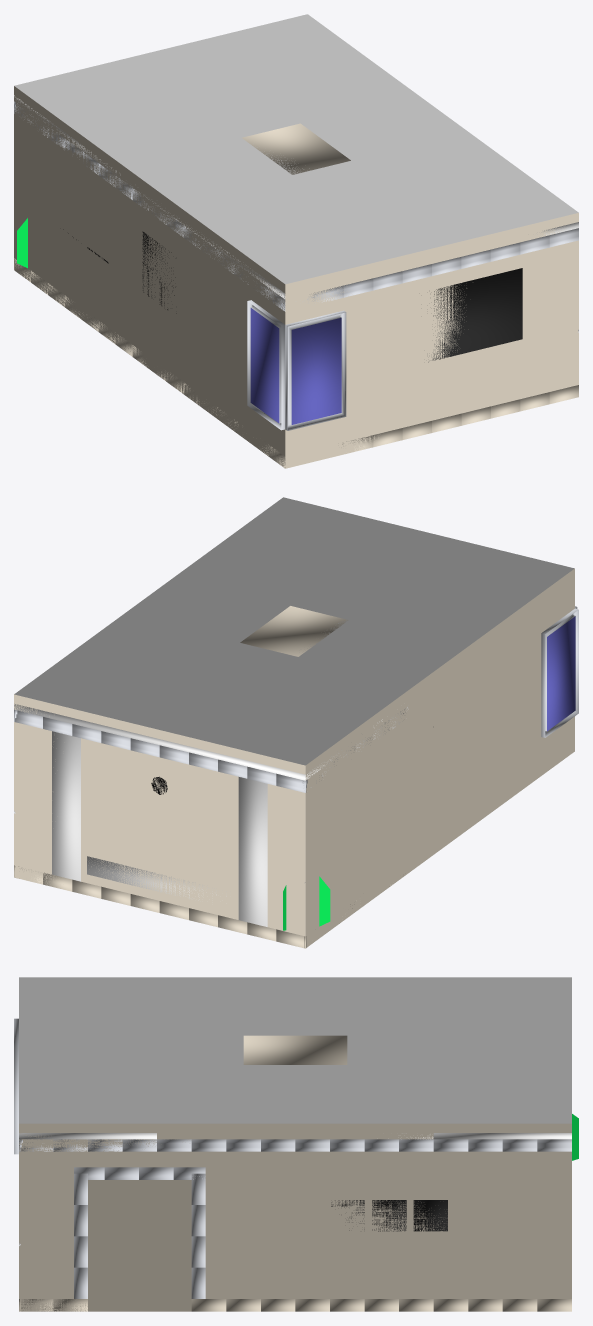
Rendered from scene1-nQGlYMh1.gltf.
3 renders of one model, top to bottom at view 1: azimuth 30°, elevation 25°; view 2: azimuth 150°, elevation 25°; view 3: azimuth 270°, elevation 25°, orthographic. The views are drawn at different scales.
Visible parts, largest first — view 1: Node6, Node2, Node5, Node8, Node186, Node9, Node134; view 2: Node6, Node2, Node4, Node10, Node11, Node9, Node134, Node131, Node12; view 3: Node6, Node3, Node1, Node134, Node189, Node131, Node130, Node188, Node8, Node119, Node118, Node120 (+32 smaller).
Boxes of the visible parts, bbox=[...] form: Node6: bbox=[14, 14, 578, 284]; Node2: bbox=[14, 86, 285, 467]; Node5: bbox=[285, 213, 578, 468]; Node8: bbox=[285, 310, 346, 430]; Node186: bbox=[428, 268, 522, 362]; Node9: bbox=[247, 300, 285, 430]; Node134: bbox=[242, 123, 350, 174]; Node6: bbox=[14, 497, 574, 765]; Node2: bbox=[305, 568, 574, 947]; Node4: bbox=[14, 694, 305, 936]; Node10: bbox=[238, 777, 267, 926]; Node11: bbox=[52, 731, 80, 881]; Node9: bbox=[541, 608, 578, 737]; Node134: bbox=[240, 606, 348, 656]; Node131: bbox=[14, 704, 338, 780]; Node12: bbox=[87, 856, 226, 900]; Node6: bbox=[19, 977, 571, 1123]; Node3: bbox=[19, 1123, 571, 1311]; Node1: bbox=[88, 1180, 191, 1311]; Node134: bbox=[243, 1035, 347, 1064]; Node189: bbox=[413, 1200, 447, 1231]; Node131: bbox=[433, 1133, 571, 1139]; Node130: bbox=[19, 1133, 156, 1139]; Node188: bbox=[372, 1200, 406, 1231]; Node8: bbox=[14, 1018, 18, 1154]; Node119: bbox=[191, 1236, 205, 1267]; Node118: bbox=[191, 1267, 205, 1298]; Node120: bbox=[191, 1205, 205, 1236].
Size of the model in its own units: 5.19 by 3 by 8.17.
